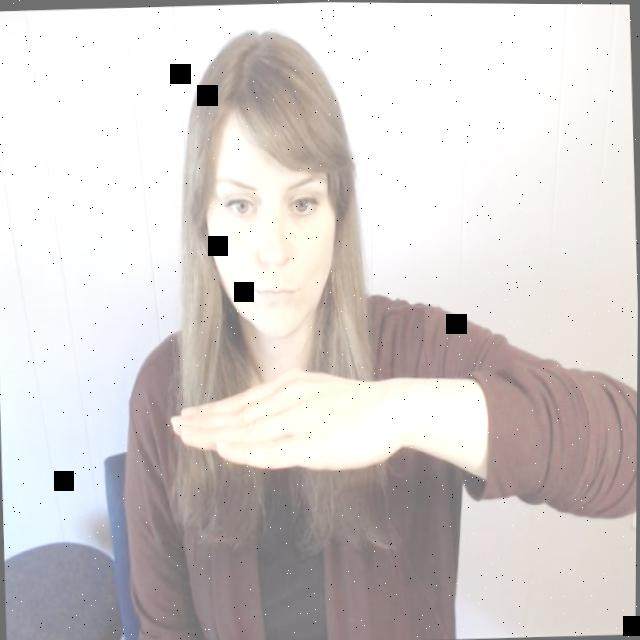Paper: (159, 353, 412, 484)
